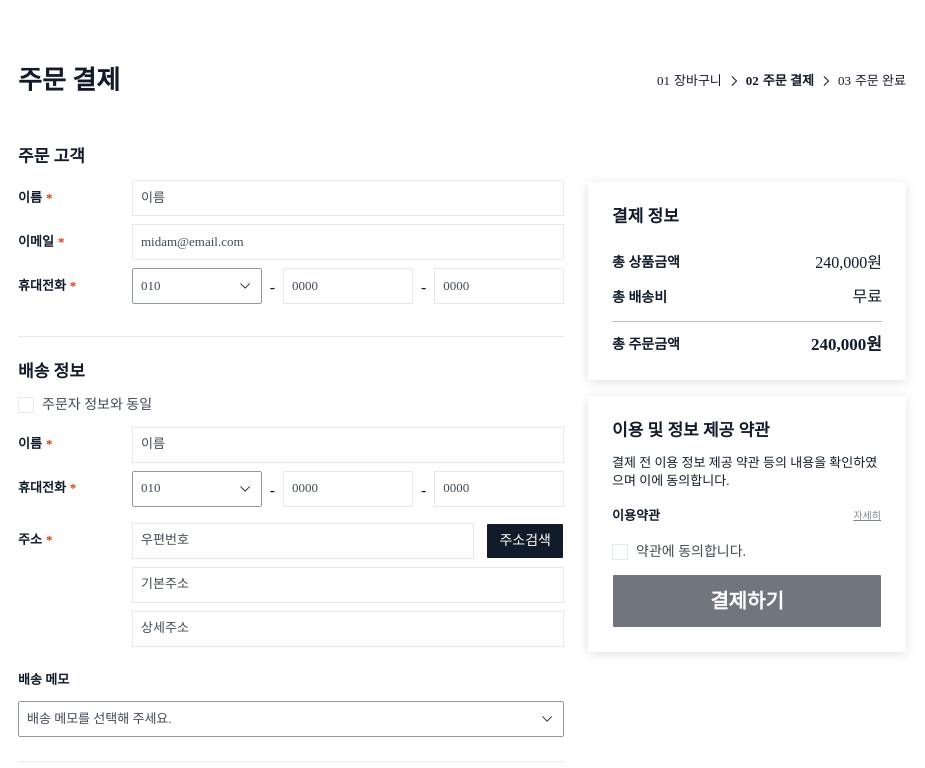
Scenario: 주문 결제 › 주소검색 결과와 직접 배송메모를 반영한다
Click the dropdown labelled "배송 메모".
click(99, 718)  # box top-left (18, 701), bottom-right (564, 737)
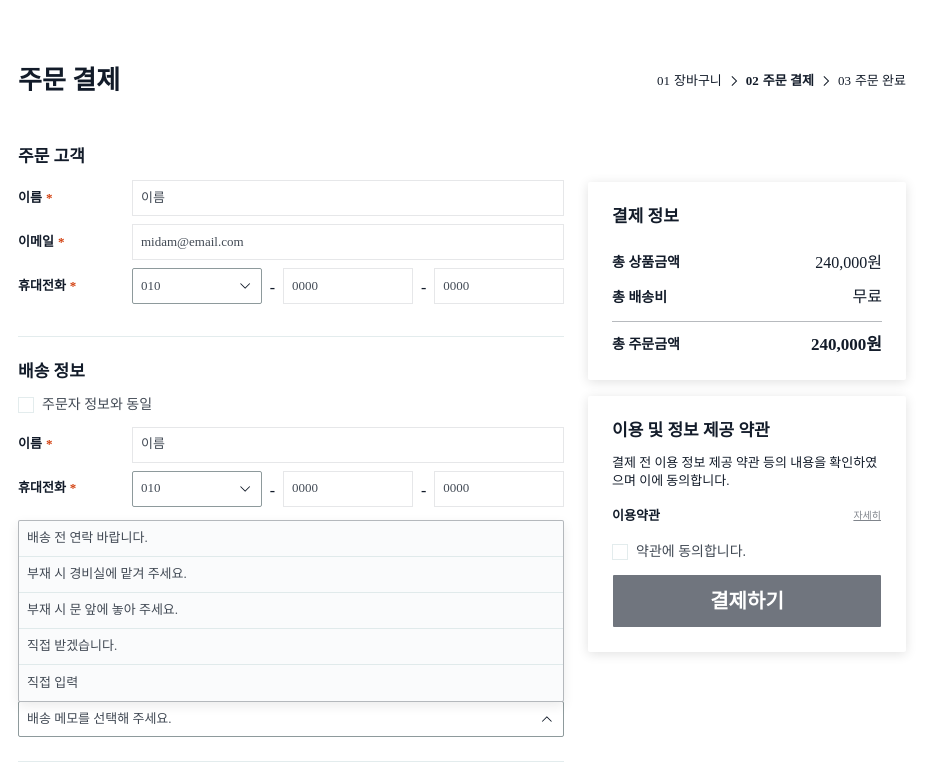
Click the option "직접 입력".
click(53, 682)  # box top-left (27, 675), bottom-right (78, 690)
(page scrolled)
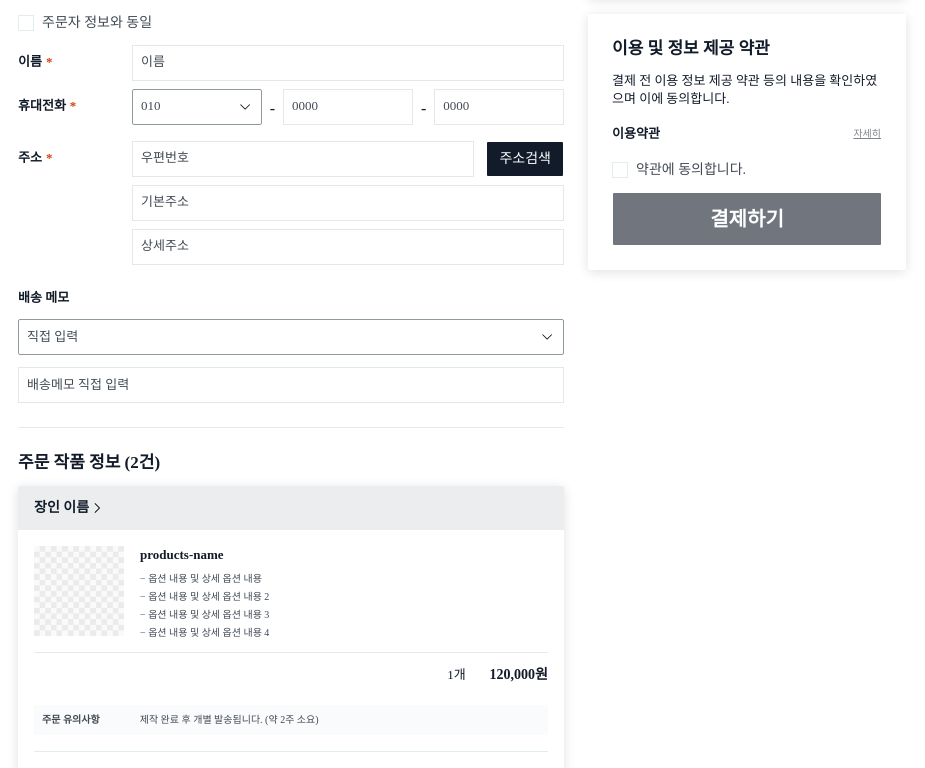
Type "문 앞에 놓아주세요" into the field labelled "배송메모 직접 입력".
click(291, 385); type("문 앞에 놓아주세요")  # box top-left (27, 376), bottom-right (555, 394)
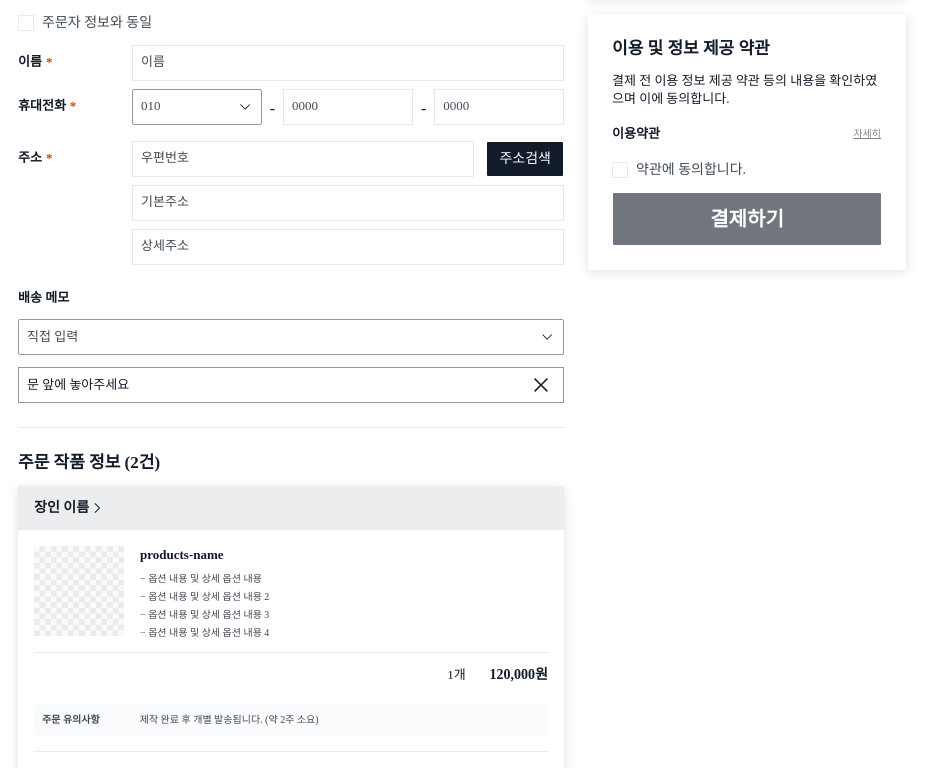
Click the button "주소검색".
click(525, 159)  # box top-left (486, 141), bottom-right (564, 177)
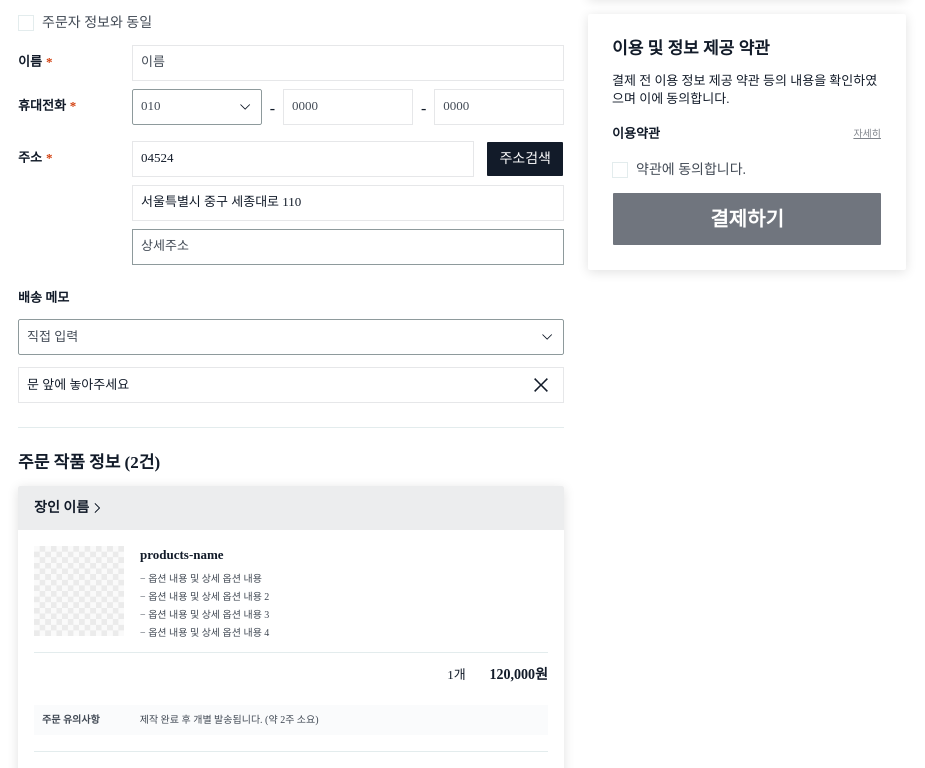
Now the field named "우편번호" holds "04524", box top-left (141, 150), bottom-right (466, 168)
